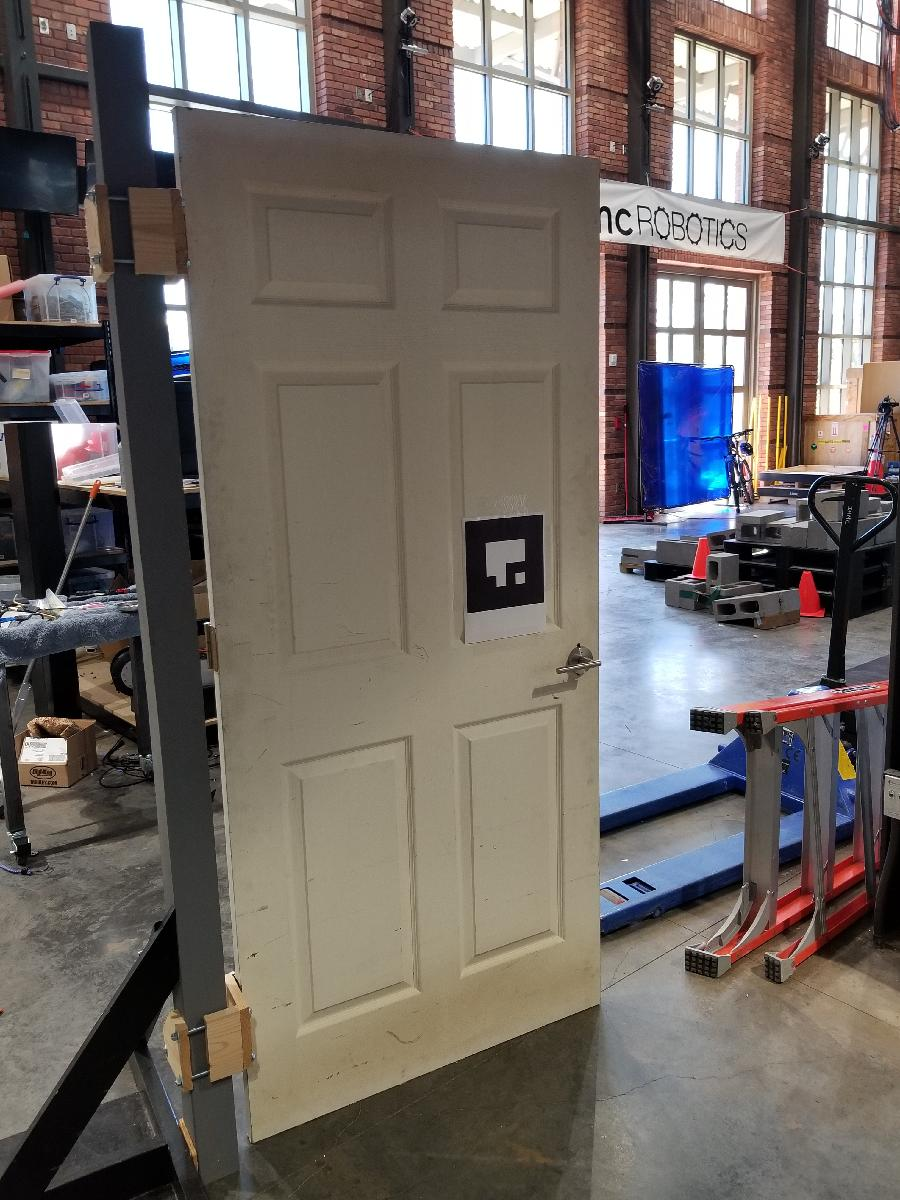door: (167, 100, 610, 1146)
doorHandle: (547, 642, 607, 698)
